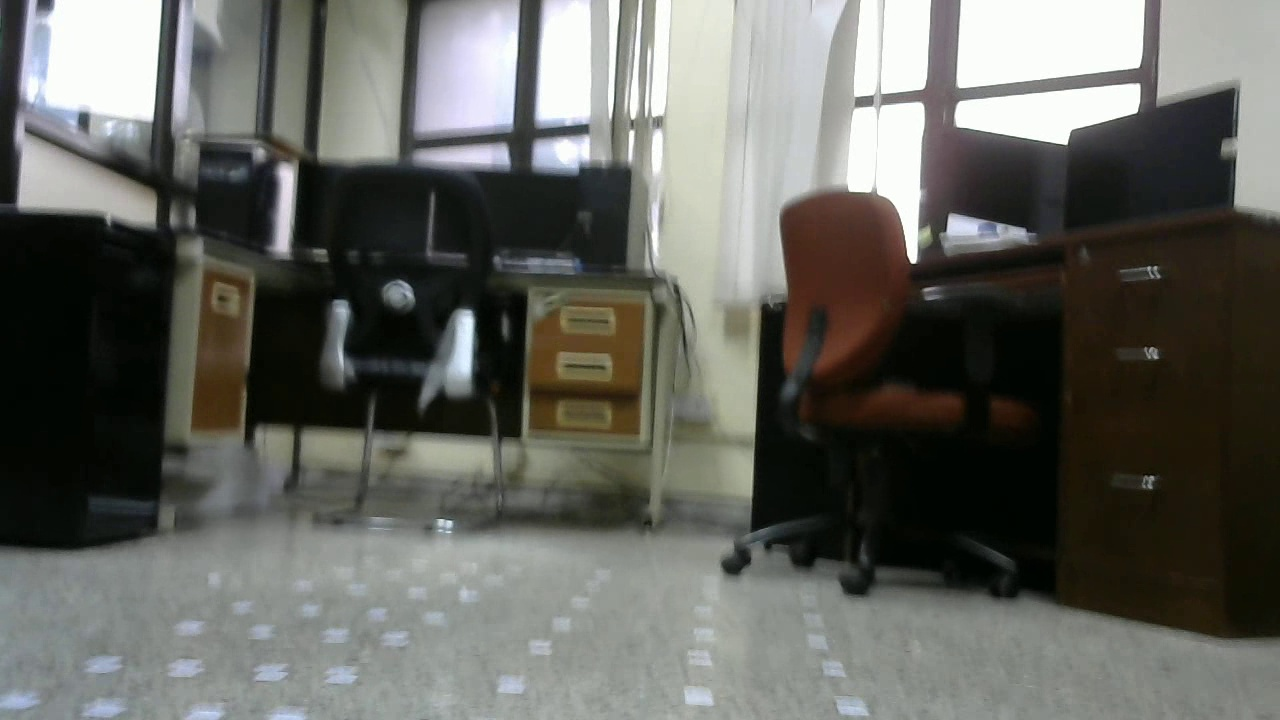chair: (716, 185, 1030, 591), (308, 168, 508, 536)
